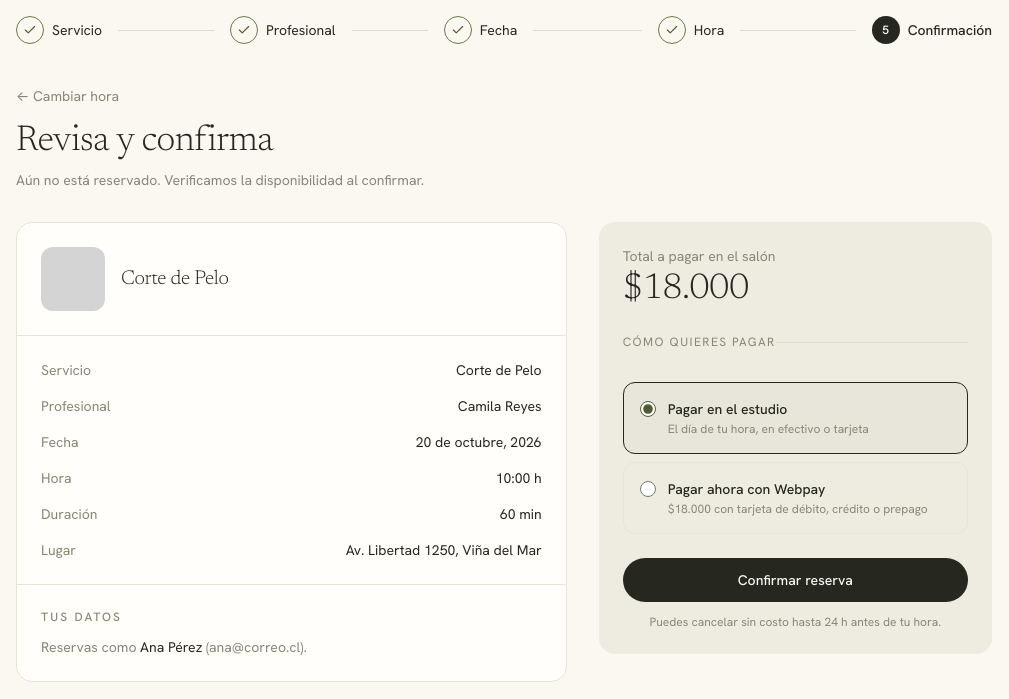
Test: BookingFlow: como se paga › servicio sin abono › pagar en el estudio crea la reserva sin pasar por Webpay
This screenshot has width=1009, height=699.
What coordinates should you click on to do the following:
click the button "Confirmar reserva"
I would click on:
 (795, 580)
Its box is x1=623 y1=558 x2=968 y2=602.
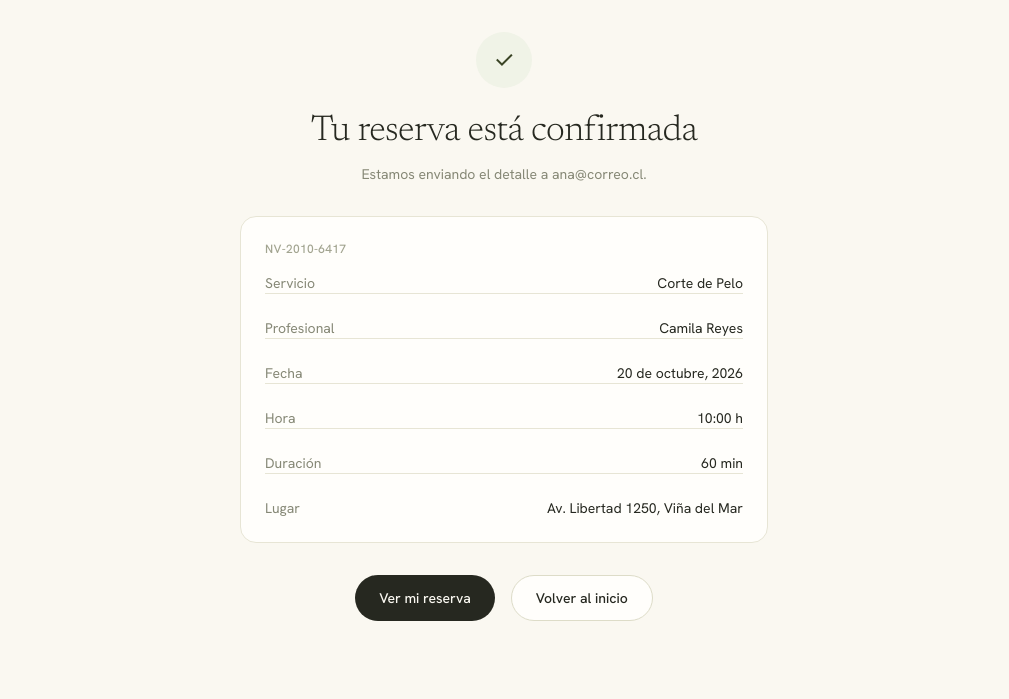
Check: the heading "Tu reserva está confirmada" is shown, box x1=311 y1=114 x2=697 y2=150
